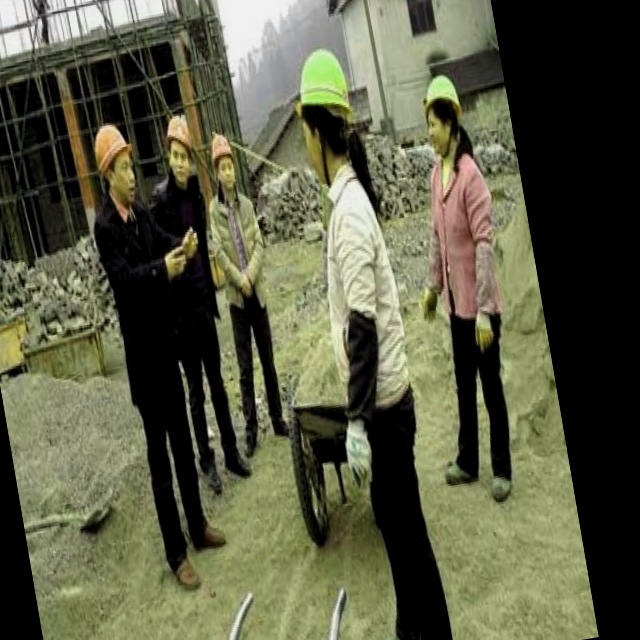Con_Casco: (287, 50, 364, 184), (92, 124, 142, 206)
